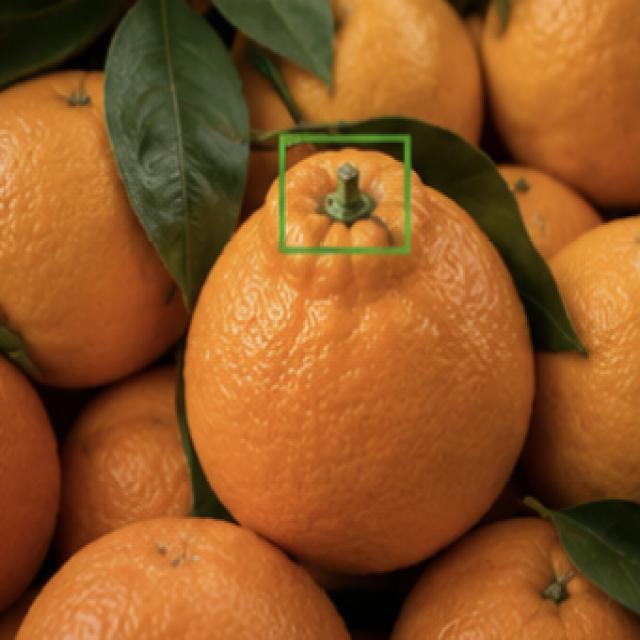Fruit-Stem-Detection: (287, 143, 407, 246)
